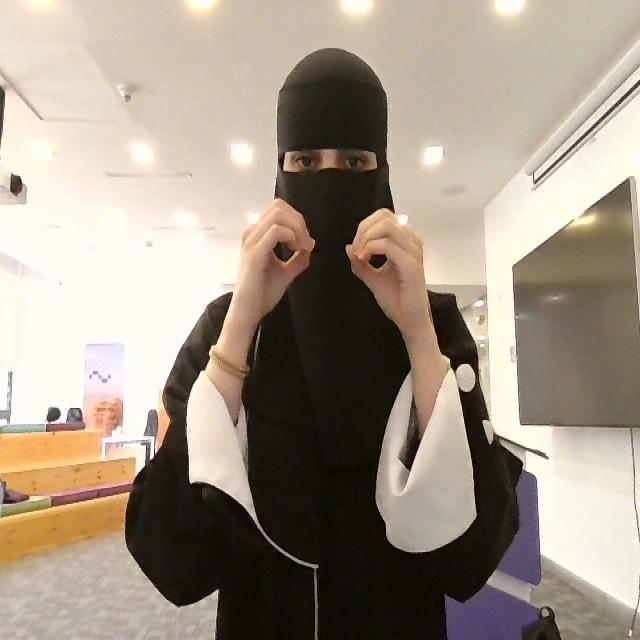analysis: (228, 195, 429, 331)
